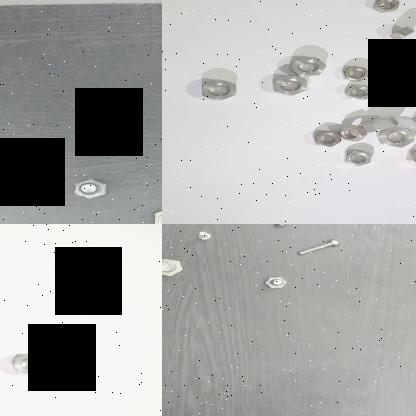Bolts: (296, 233, 342, 258), (68, 174, 110, 200), (260, 273, 290, 293), (162, 256, 185, 276), (193, 228, 216, 241), (267, 224, 298, 231)
NUTS: (195, 76, 241, 104), (286, 52, 329, 78), (12, 348, 50, 376), (272, 70, 312, 96), (307, 127, 343, 149), (360, 115, 401, 134), (375, 128, 415, 147), (333, 124, 369, 144), (382, 21, 416, 41), (338, 62, 370, 83), (340, 83, 375, 102), (340, 148, 374, 166), (368, 0, 402, 13), (398, 145, 416, 167)
